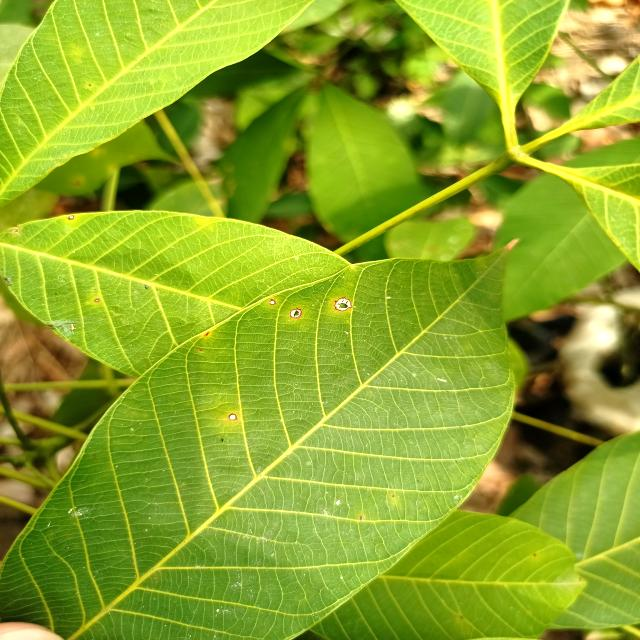Colletotrichum: (335, 297, 352, 311), (290, 308, 302, 318), (229, 413, 237, 420), (270, 299, 276, 305), (69, 215, 74, 220), (94, 298, 100, 302)
